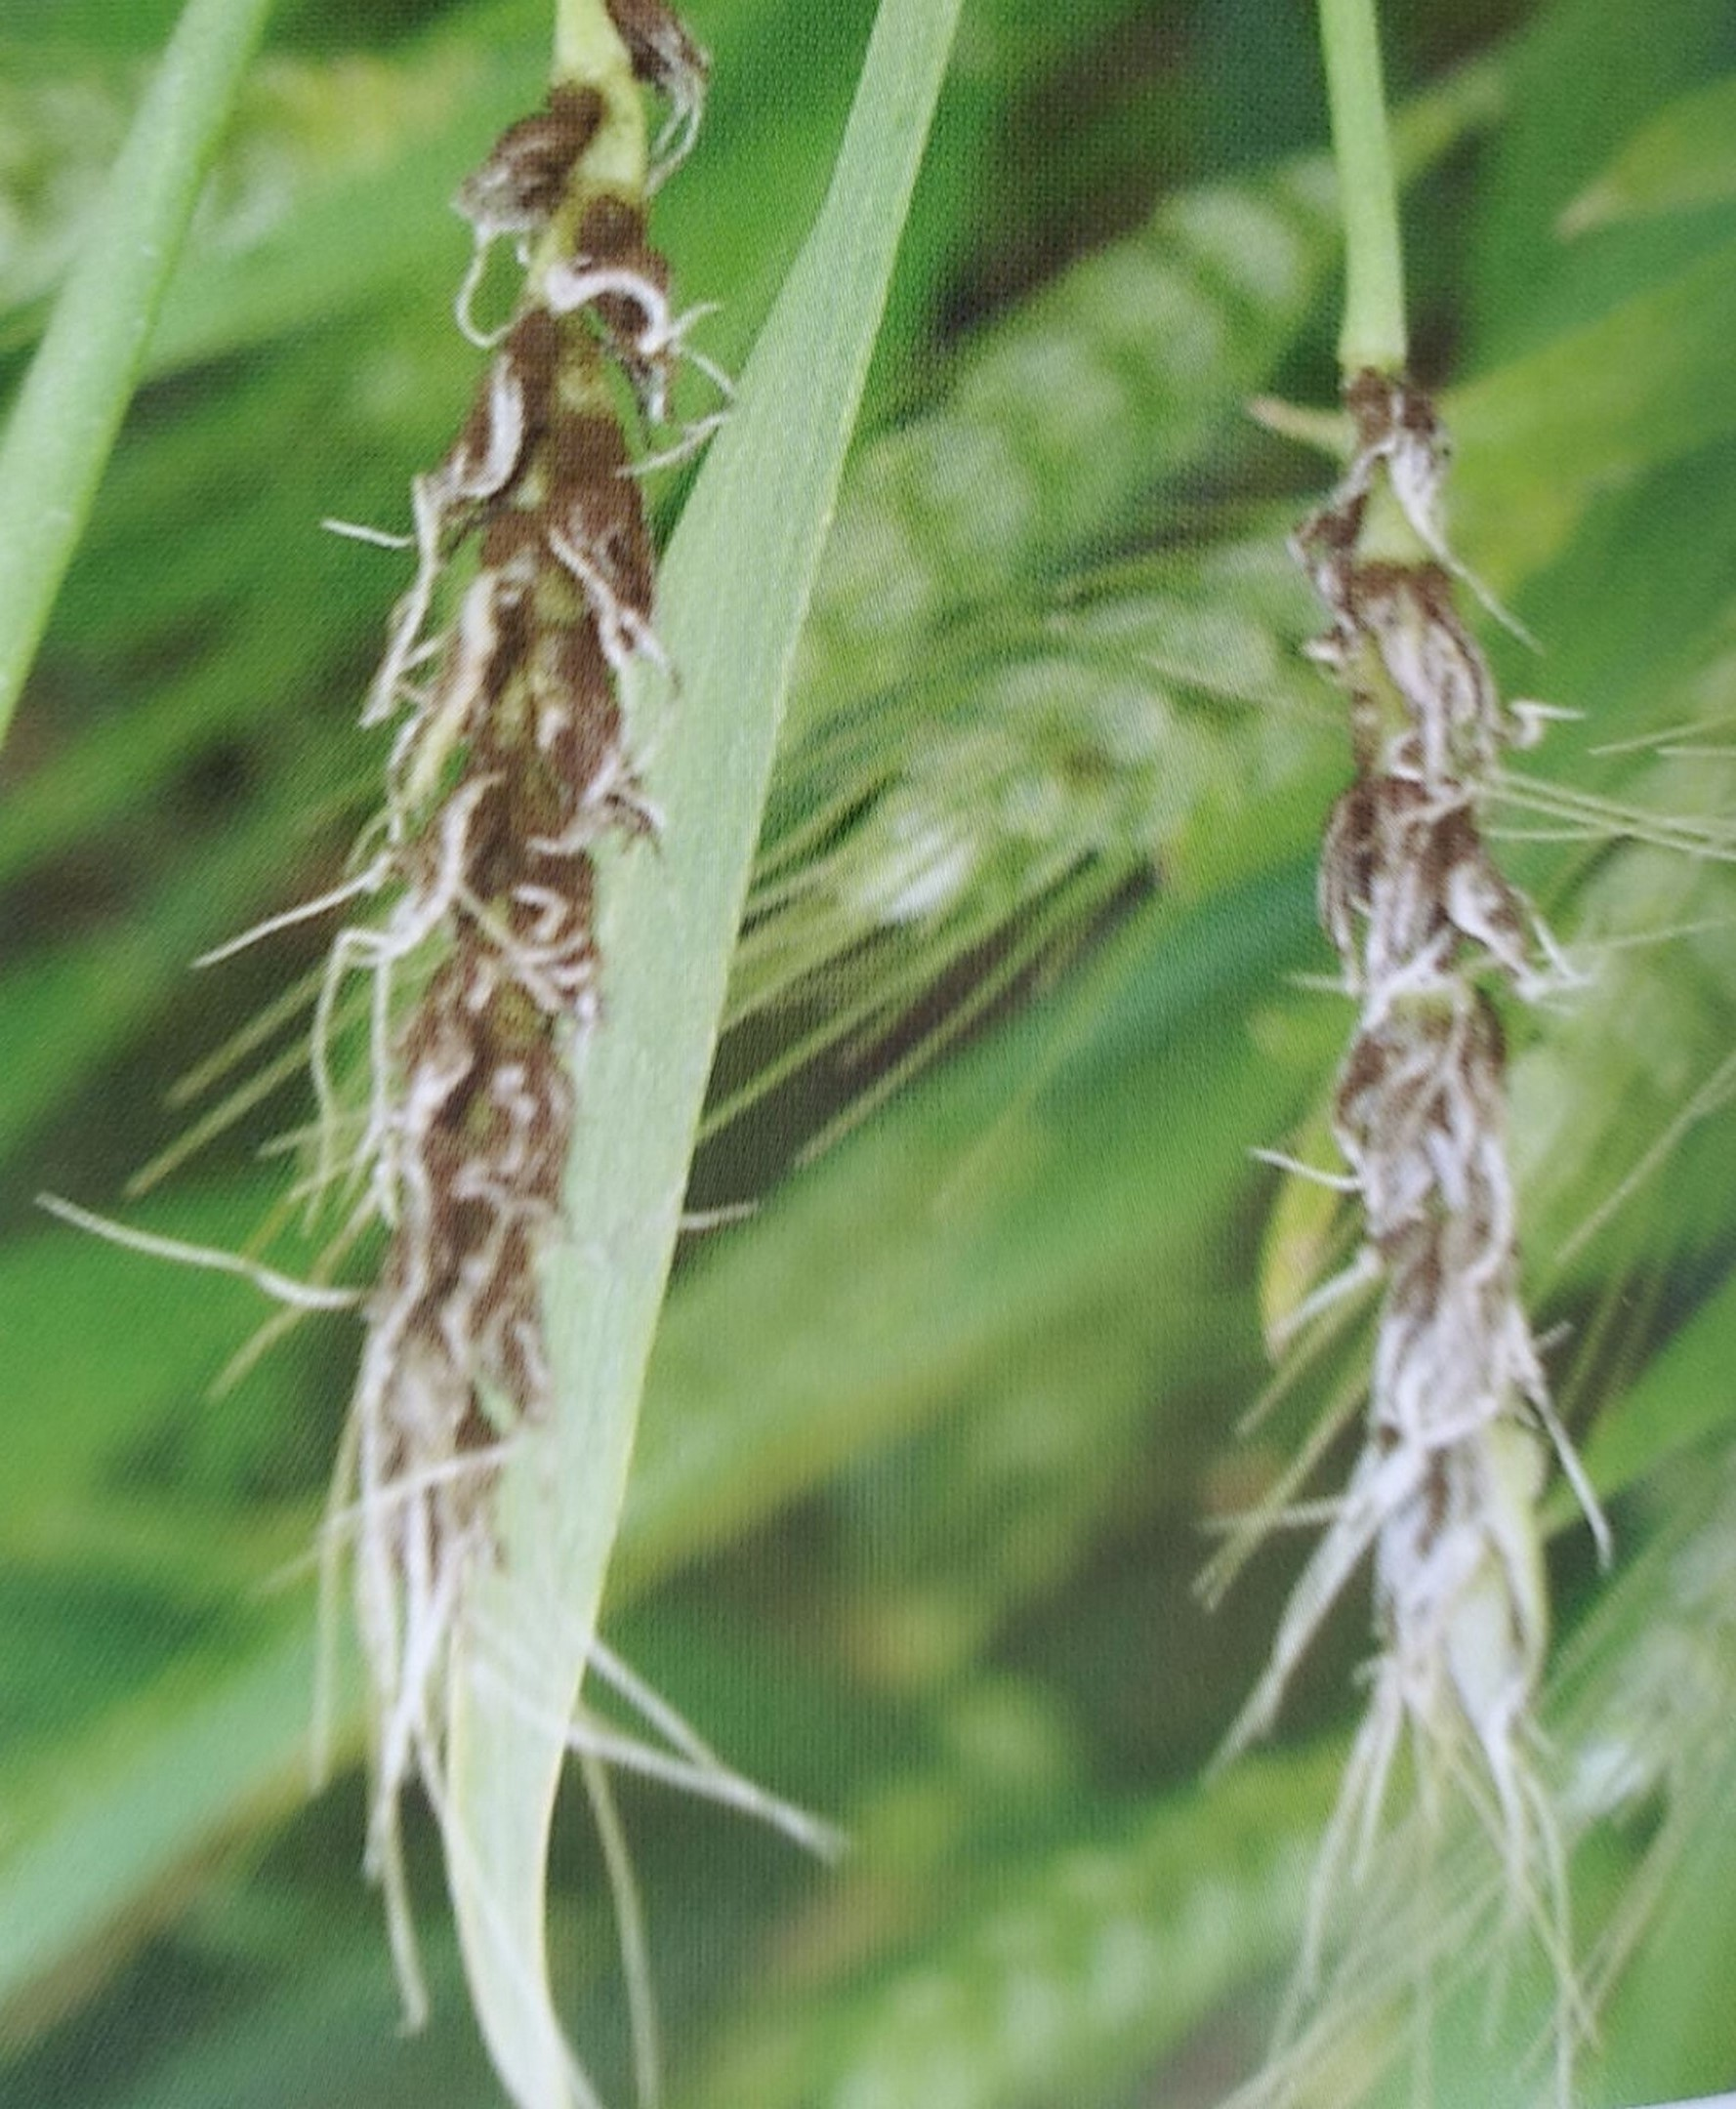Wheat Loose Smut: (324, 88, 722, 1571), (1249, 438, 1622, 1766)
